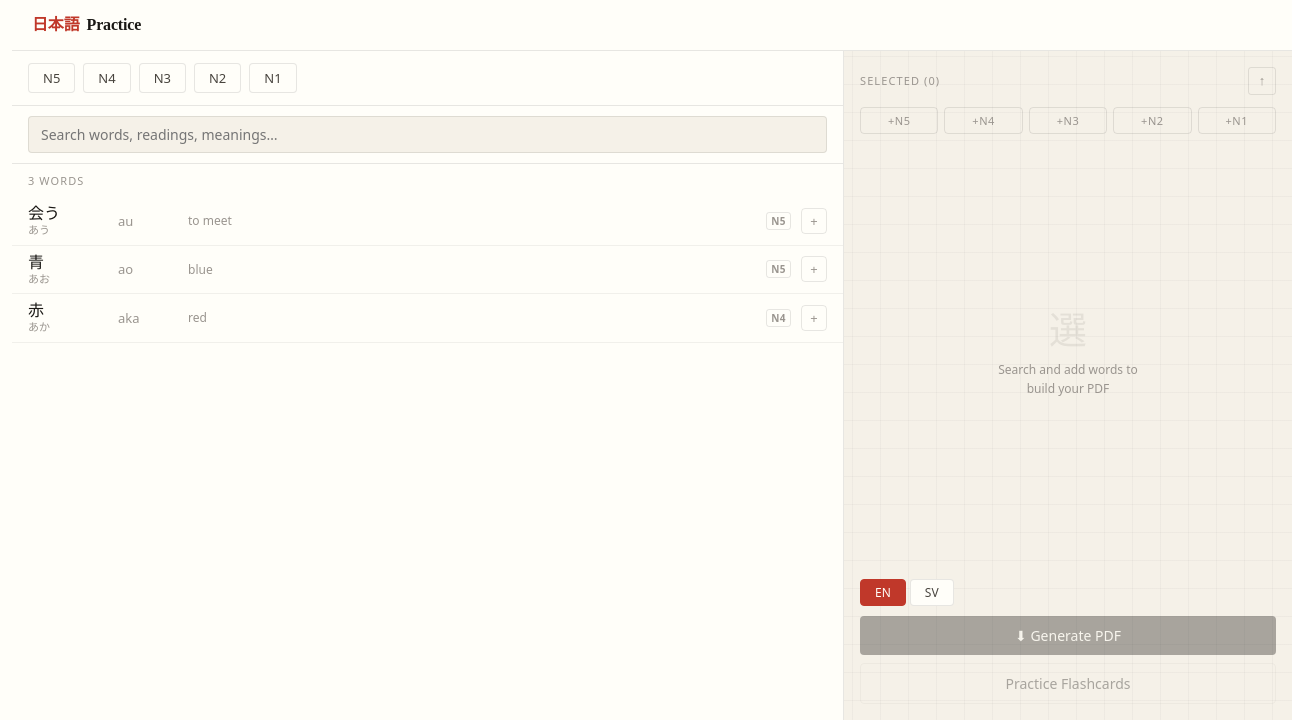
Test case: VocabularyBuilder › removing a word removes it from the selection panel
expect the text "会う" is shown: met, box [28, 205, 60, 222]
Step 1. Click the button with aria-label "add " → (44, 214), box [12, 197, 843, 246]
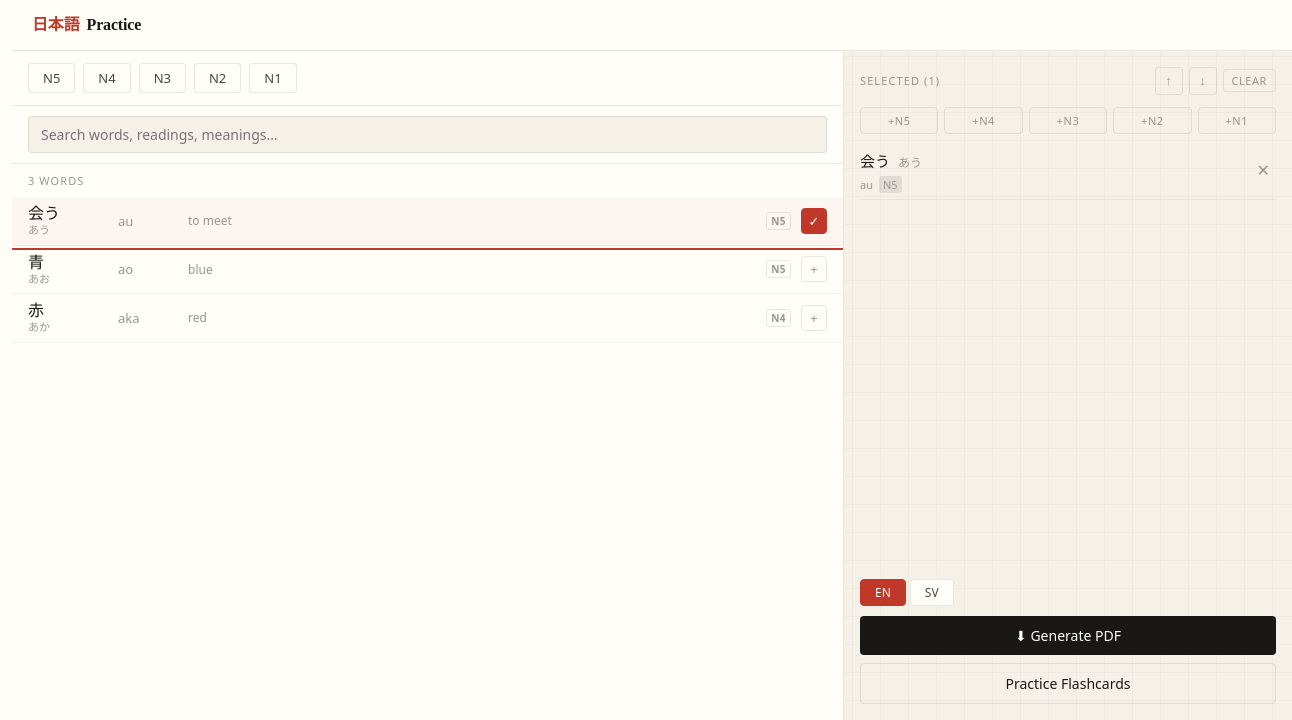
Step 2. Click the button named "Remove 会う" → (1263, 171), box [1251, 161, 1276, 181]
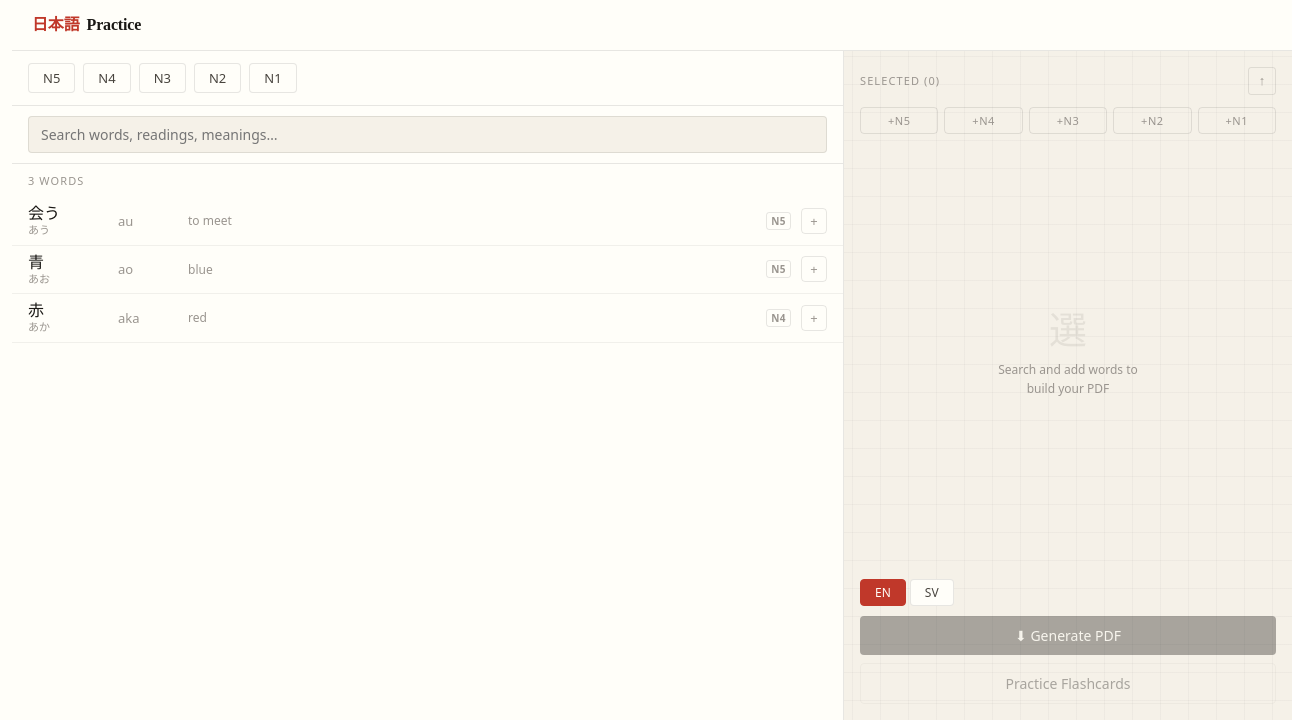
expect the text "Selected (0)" is shown: met, box [860, 72, 940, 89]
